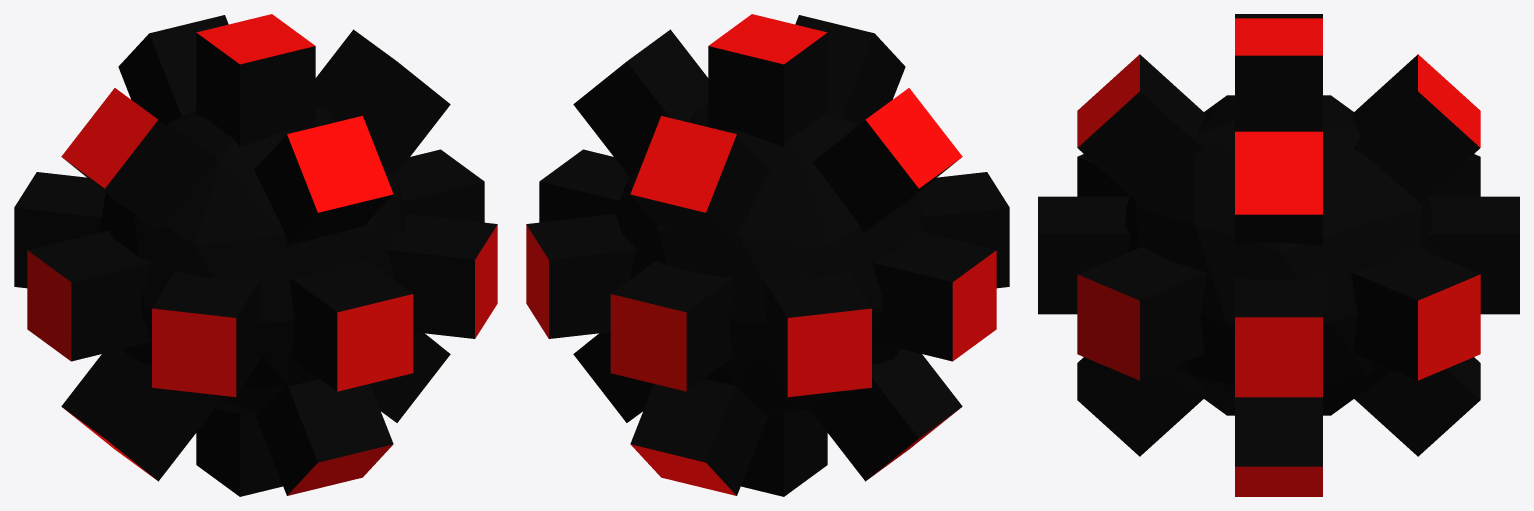
The model's file is Mina.fbx.
The picture shows the model from 3 angles, left to right: view 1: azimuth 30°, elevation 25°; view 2: azimuth 150°, elevation 25°; view 3: azimuth 270°, elevation 25°; orthographic projection.
Visible parts, largest first — view 1: Icosphere; view 2: Icosphere; view 3: Icosphere.
Part boxes in pixels (bbox=[...]): Icosphere: bbox=[14, 14, 497, 496]; Icosphere: bbox=[526, 14, 1009, 496]; Icosphere: bbox=[1038, 14, 1519, 496].
Size of the model in its own units: 286 by 286 by 286.
